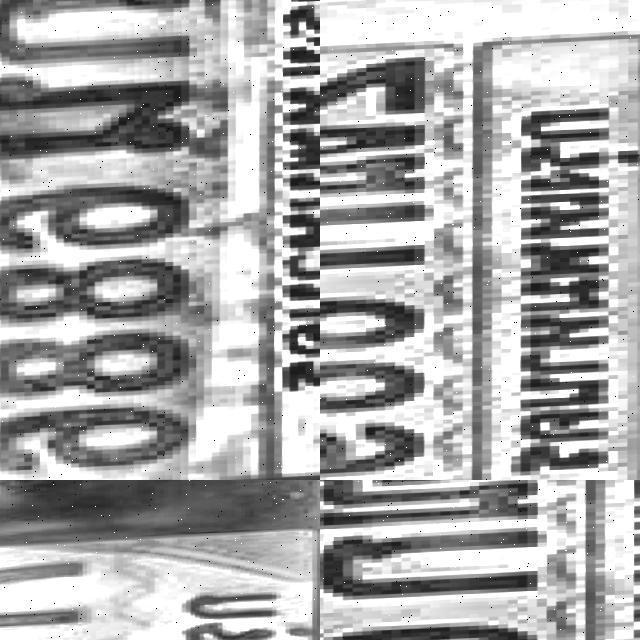license-plate: (0, 0, 320, 480), (320, 0, 640, 480), (0, 480, 320, 640), (320, 480, 640, 640)
